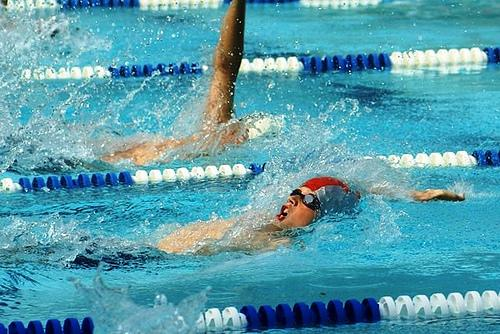swimmer: (156, 175, 467, 260)
